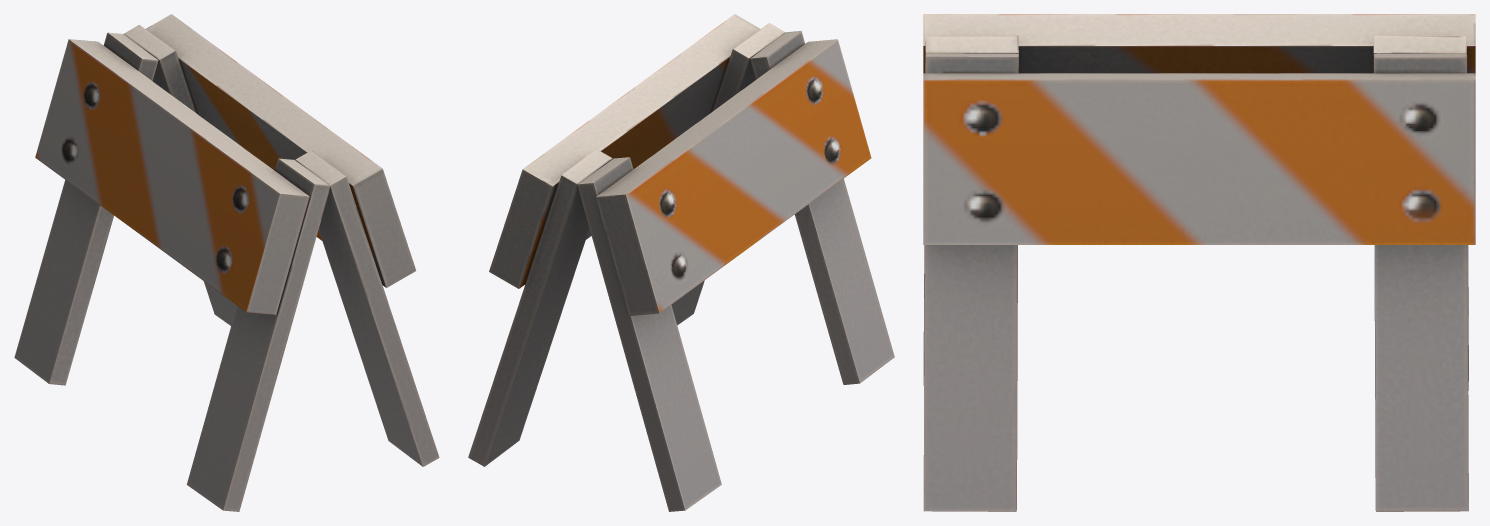
The model's file is obracosa.fbx.
3 renders of one model, left to right at view 1: azimuth 30°, elevation 25°; view 2: azimuth 150°, elevation 25°; view 3: azimuth 270°, elevation 25°, orthographic. The views are drawn at different scales.
Parts seen in each view (by area): view 1: Cube.014, Cube.015; view 2: Cube.014, Cube.015; view 3: Cube.014, Cube.015.
Part boxes in pixels (x1=…): Cube.014: x1=35, y1=14, x2=416, y2=314; Cube.015: x1=14, y1=25, x2=439, y2=511; Cube.014: x1=489, y1=14, x2=871, y2=315; Cube.015: x1=468, y1=23, x2=894, y2=511; Cube.014: x1=923, y1=14, x2=1475, y2=244; Cube.015: x1=923, y1=35, x2=1468, y2=511.
Bounding box in the file's own units: 148 × 201 × 249.
1 material, 1 textured.
